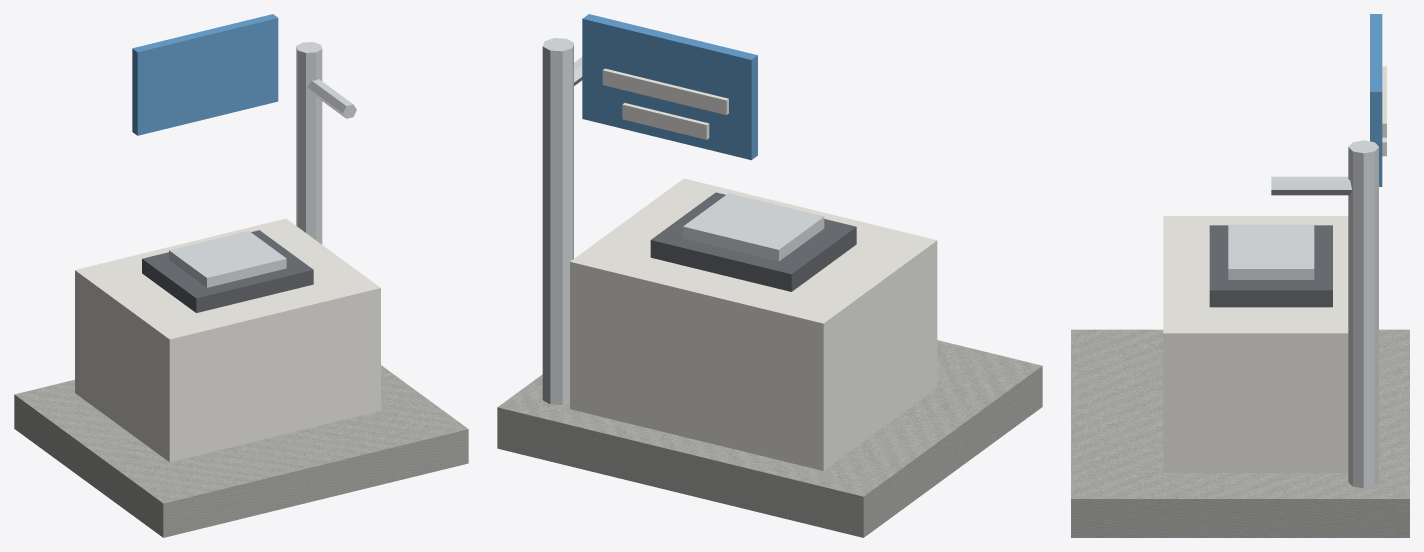
Rendered from caravan-park-and-campsite-chemical-disposal-point-21dfd40c__35362.glb.
3 views of the same model, side by side, from view 1: azimuth 30°, elevation 25°; view 2: azimuth 150°, elevation 25°; view 3: azimuth 270°, elevation 25° (orthographic). The views are drawn at different scales.
Visible parts, largest first — view 1: chemical-disposal-point-shell, chemical-disposal-point-hard, chemical-disposal-point-azure, chemical-disposal-point-galv, chemical-disposal-point-charcoal; view 2: chemical-disposal-point-shell, chemical-disposal-point-hard, chemical-disposal-point-galv, chemical-disposal-point-azure, chemical-disposal-point-charcoal; view 3: chemical-disposal-point-hard, chemical-disposal-point-shell, chemical-disposal-point-galv, chemical-disposal-point-charcoal, chemical-disposal-point-azure.
Boxes of the visible parts, bbox=[...] form: chemical-disposal-point-shell: bbox=[75, 218, 380, 462]; chemical-disposal-point-hard: bbox=[14, 365, 468, 537]; chemical-disposal-point-azure: bbox=[132, 14, 278, 135]; chemical-disposal-point-galv: bbox=[169, 42, 356, 287]; chemical-disposal-point-charcoal: bbox=[142, 230, 313, 312]; chemical-disposal-point-shell: bbox=[570, 68, 937, 470]; chemical-disposal-point-hard: bbox=[497, 340, 1042, 537]; chemical-disposal-point-galv: bbox=[542, 38, 824, 404]; chemical-disposal-point-azure: bbox=[582, 14, 757, 160]; chemical-disposal-point-charcoal: bbox=[650, 192, 856, 291]; chemical-disposal-point-hard: bbox=[1071, 329, 1409, 537]; chemical-disposal-point-shell: bbox=[1163, 66, 1386, 472]; chemical-disposal-point-galv: bbox=[1228, 140, 1378, 488]; chemical-disposal-point-charcoal: bbox=[1209, 225, 1332, 307]; chemical-disposal-point-azure: bbox=[1370, 14, 1382, 186].
Size of the model in its own units: 1.3 by 1.48 by 1.1.
Materials: 5 (1 with a texture image).
